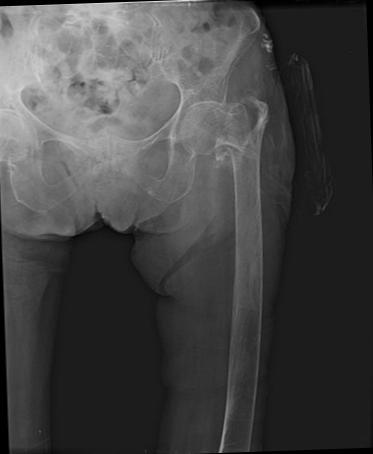fractured: (210, 91, 270, 171)
